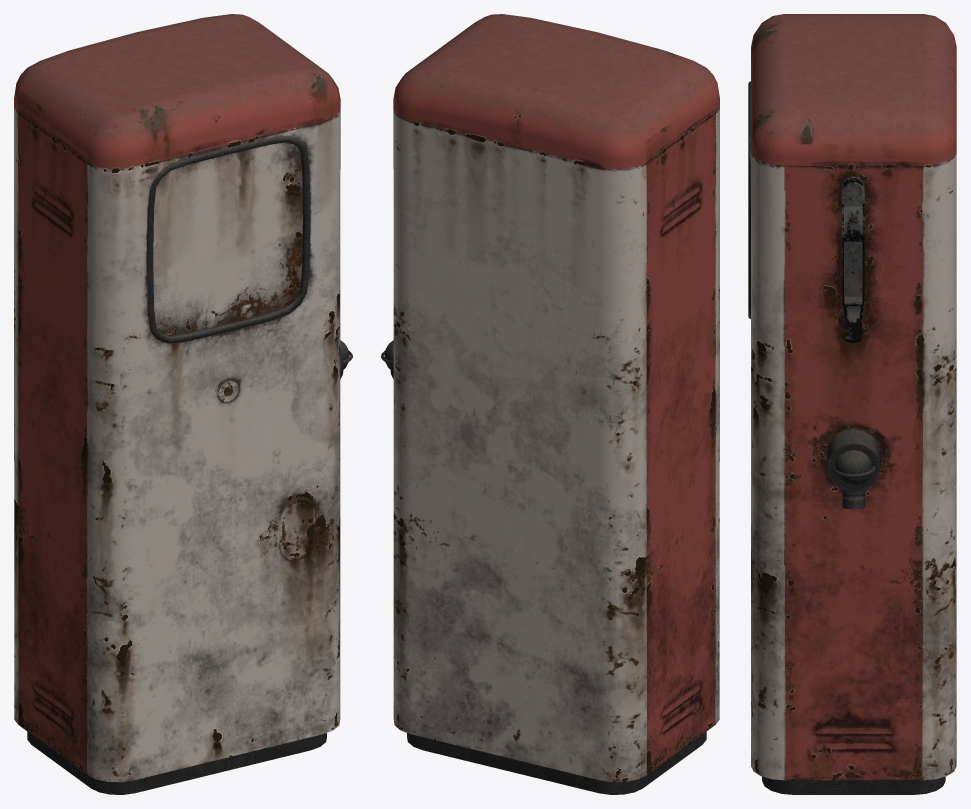
File: gas_pump_round.gltf
3 views of the same model, side by side, from view 1: azimuth 30°, elevation 25°; view 2: azimuth 150°, elevation 25°; view 3: azimuth 270°, elevation 25° (orthographic).
Parts seen in each view (by area): view 1: gas_pump_round; view 2: gas_pump_round; view 3: gas_pump_round.
Part boxes in pixels (bbox=[...]): gas_pump_round: bbox=[14, 14, 352, 794]; gas_pump_round: bbox=[381, 14, 719, 794]; gas_pump_round: bbox=[748, 14, 956, 794].
Size of the model in its own units: 0.7336 by 1.6 by 0.4444.
Materials: 1 (1 with a texture image).
